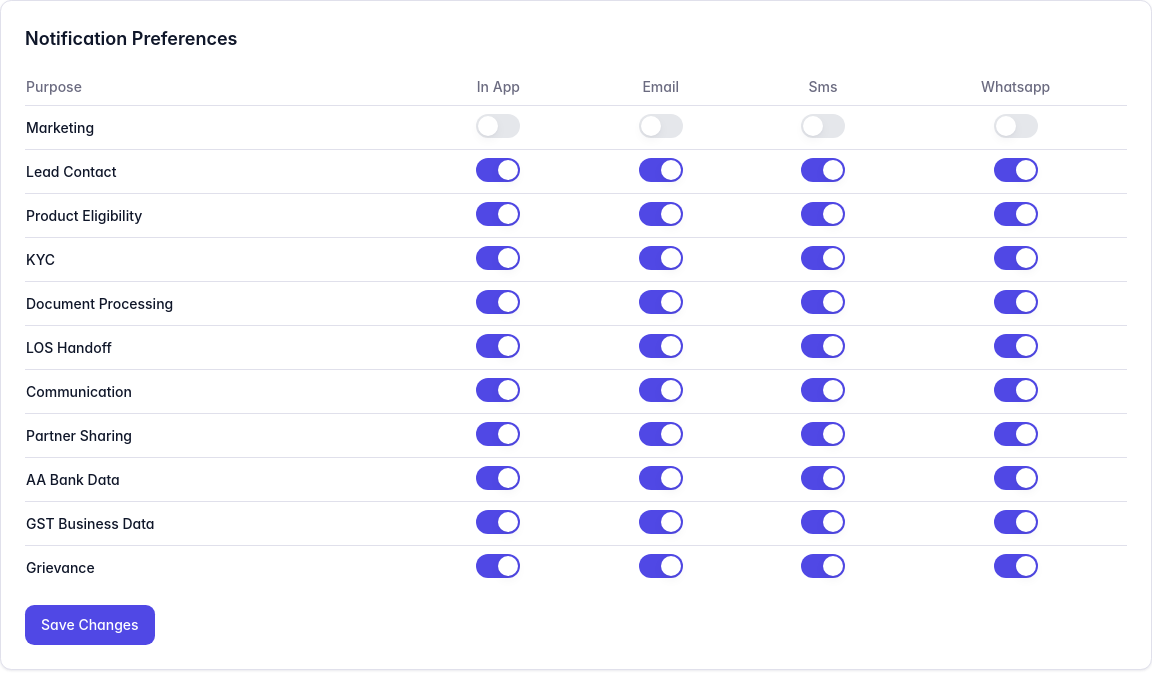
it: PreferenceCentre (FR-103) › T21 — toggles a channel and shows success toast on submit
The image size is (1152, 700).
Toggle it off.
Click the switch named "sms notifications for document_processing" at (823, 302), box left=801, top=290, right=845, bottom=314
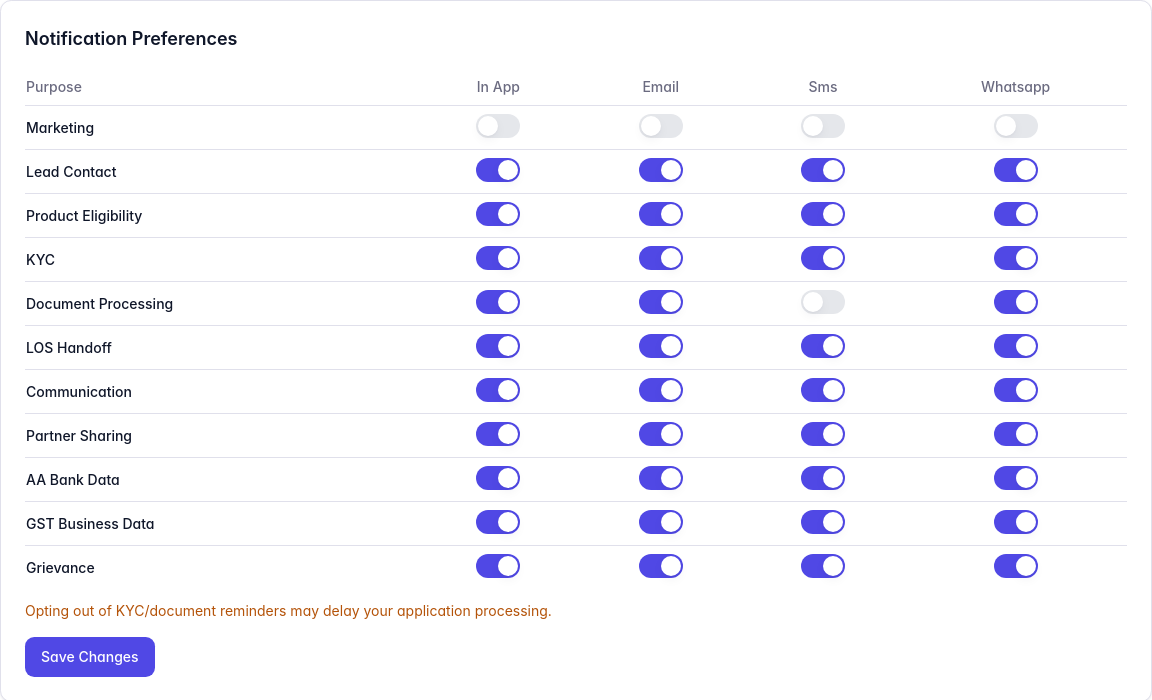
Submit the form.
Click the button "Save Changes" at (90, 657), box left=25, top=637, right=155, bottom=677
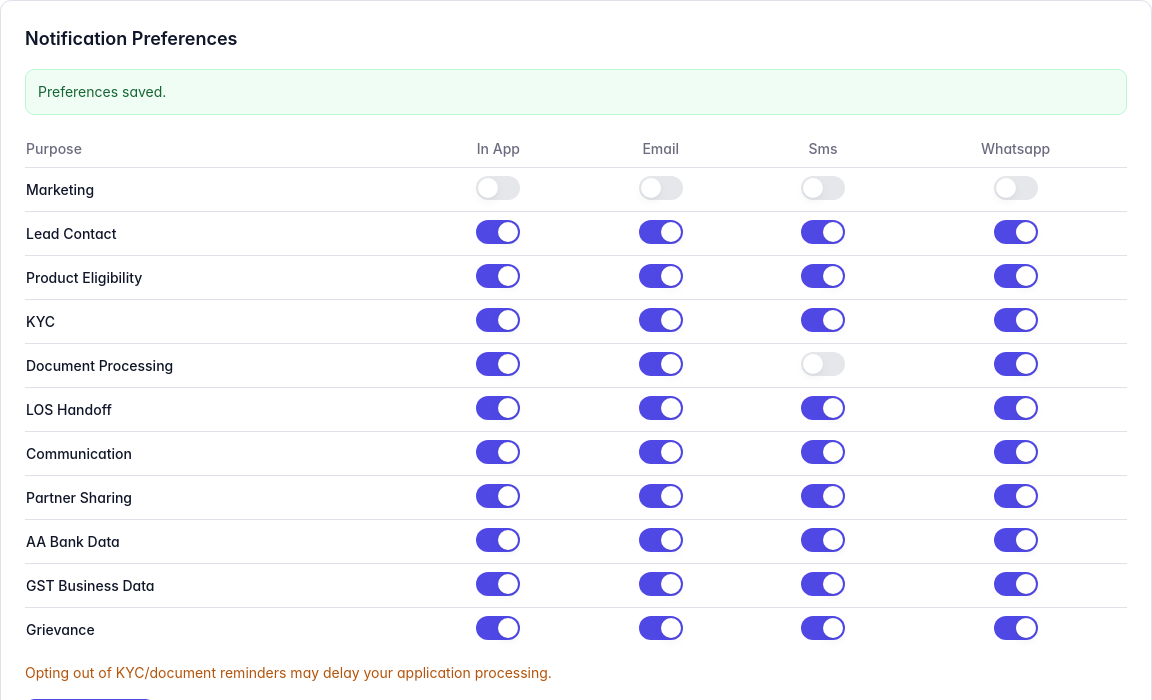
Expected: the message shows "Preferences saved", left=38, top=83, right=166, bottom=100
